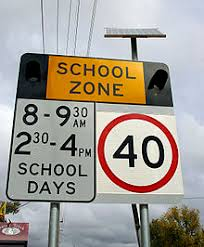sp40: (99, 111, 179, 190)
